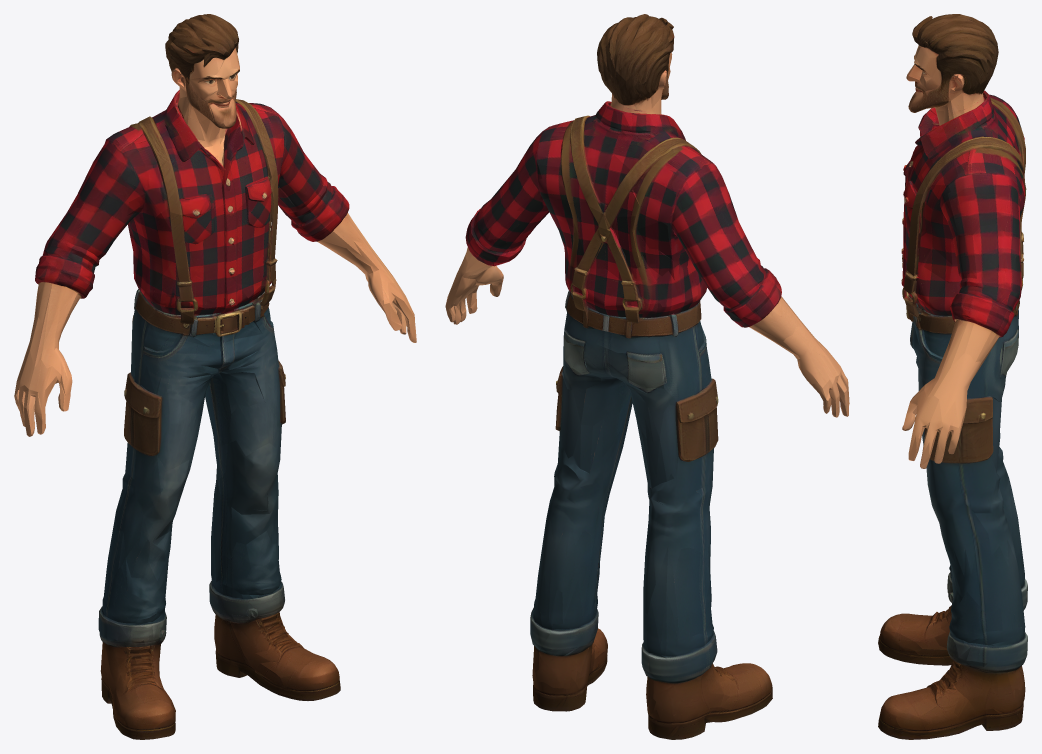
File: Lumberjack_v3.glb
3 renders of one model, left to right at view 1: azimuth 30°, elevation 25°; view 2: azimuth 150°, elevation 25°; view 3: azimuth 270°, elevation 25°, orthographic.
Size of the model in its own units: 1.14 by 1.9 by 0.3821.
1 material, 1 textured.
